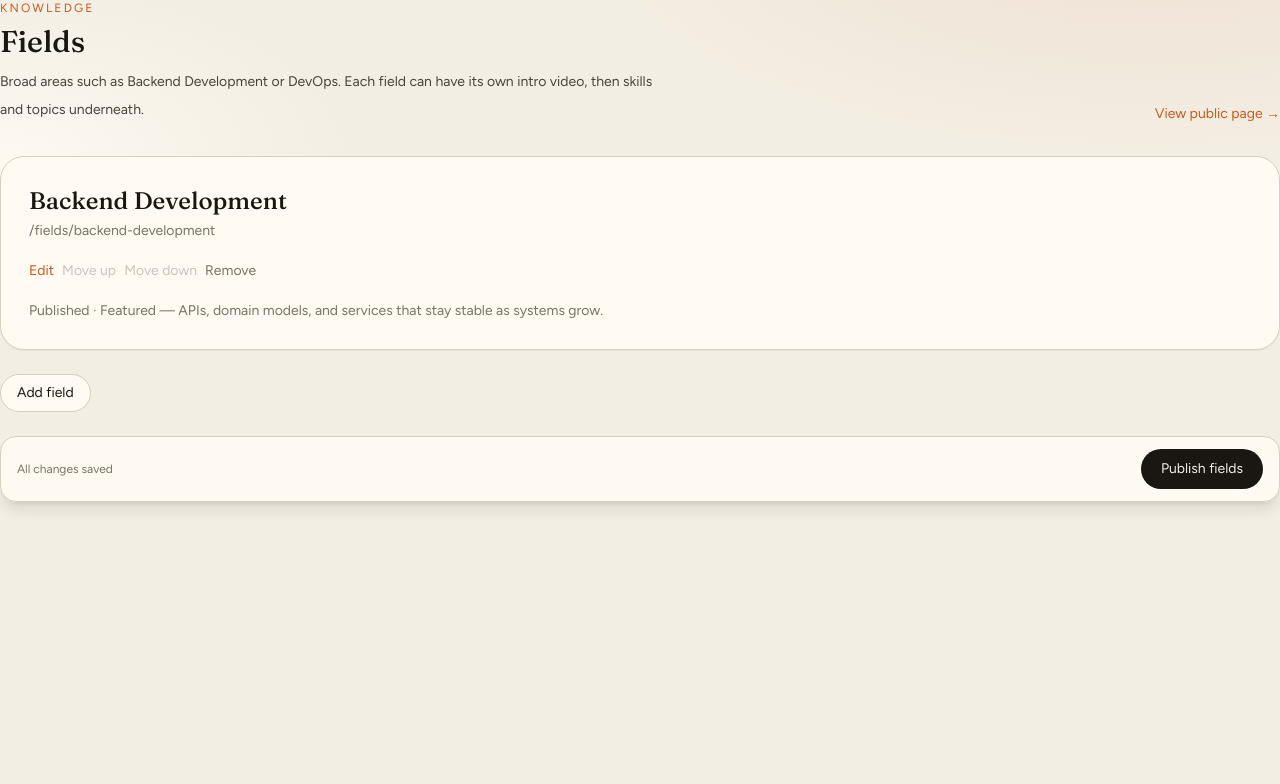
Test: AdminFieldsPage › loads published records and publishes edits
Expected: the heading "Fields" is shown, [0,23,85,60]
Expected: the field labelled "Name" is not shown
Click the button "Edit" at (42, 271), box [29,261,54,281]
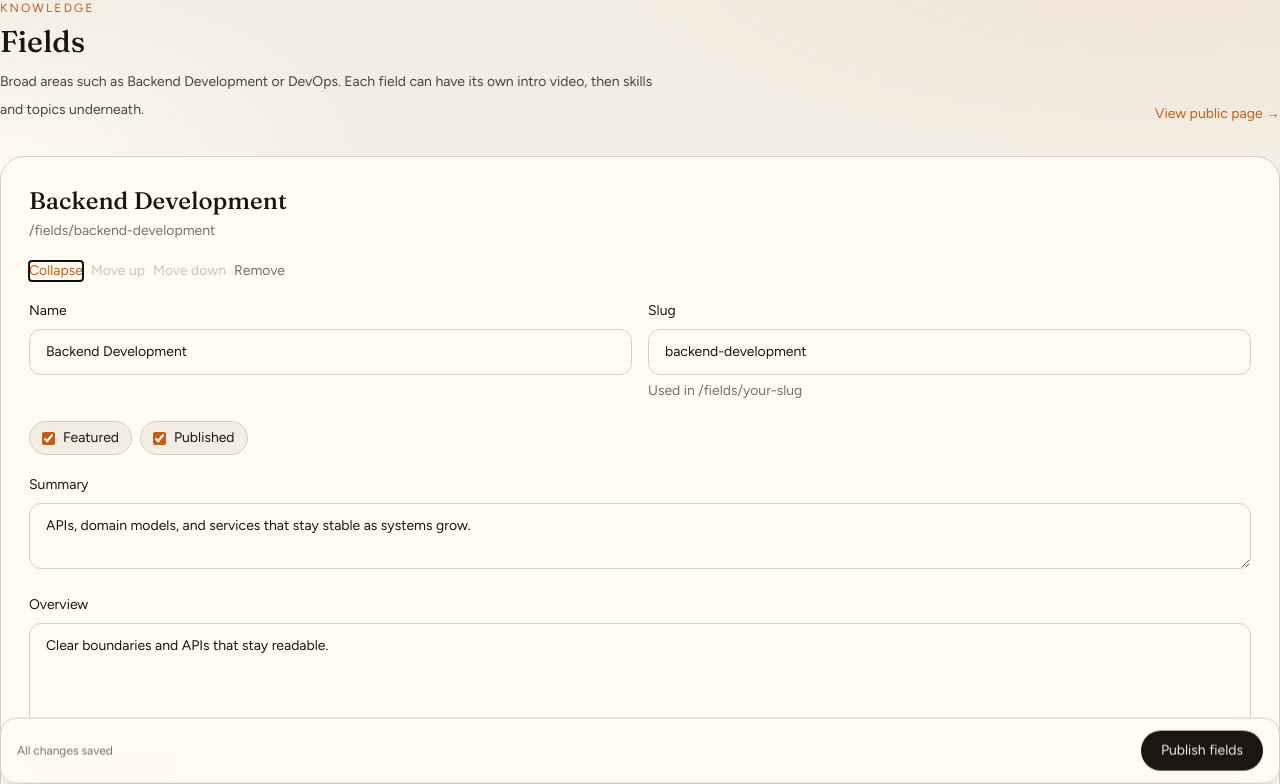
Result: the field labelled "Name" holds "Backend Development"
Result: the field labelled "Slug" holds "backend-development" at [648,329,1251,375]
Replace the text in the field labelled "Name" with "Backend Systems" at (330, 352), box [29,329,632,375]
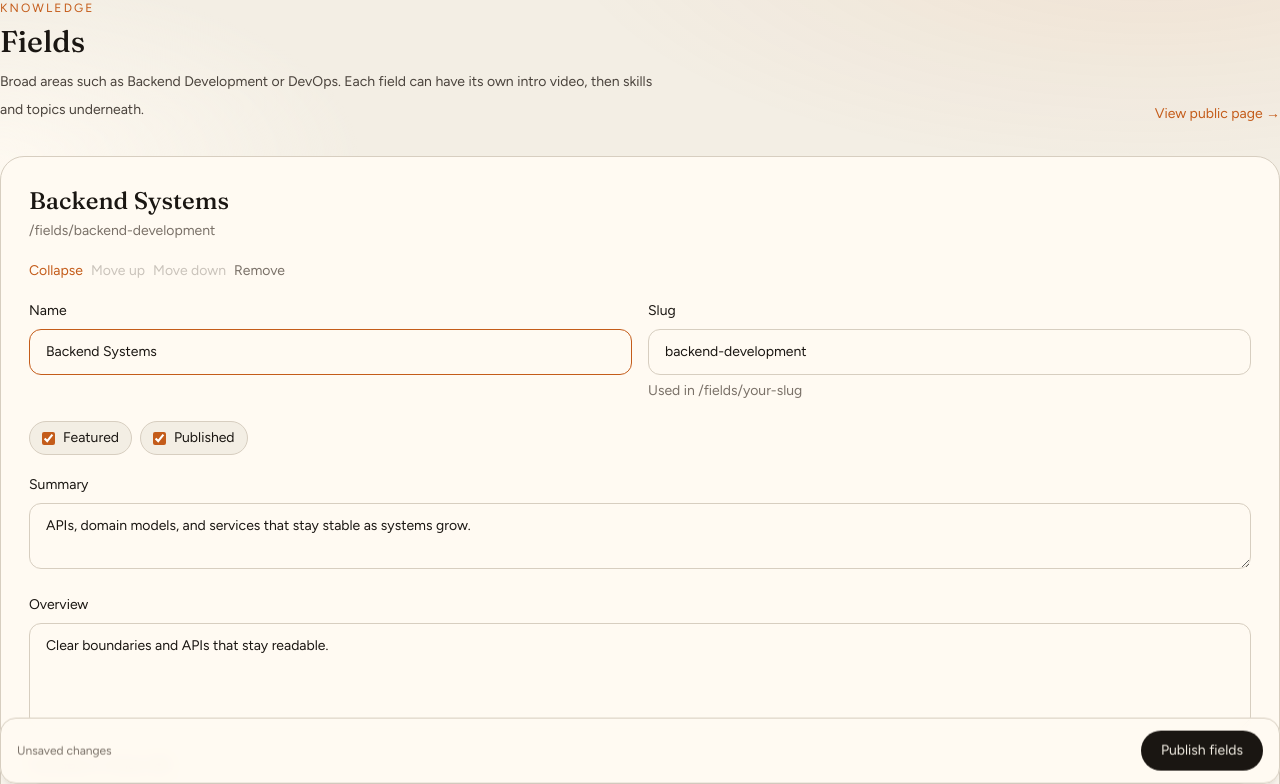
Click the button "Publish fields" at (1202, 751), box [1141,731,1263,771]
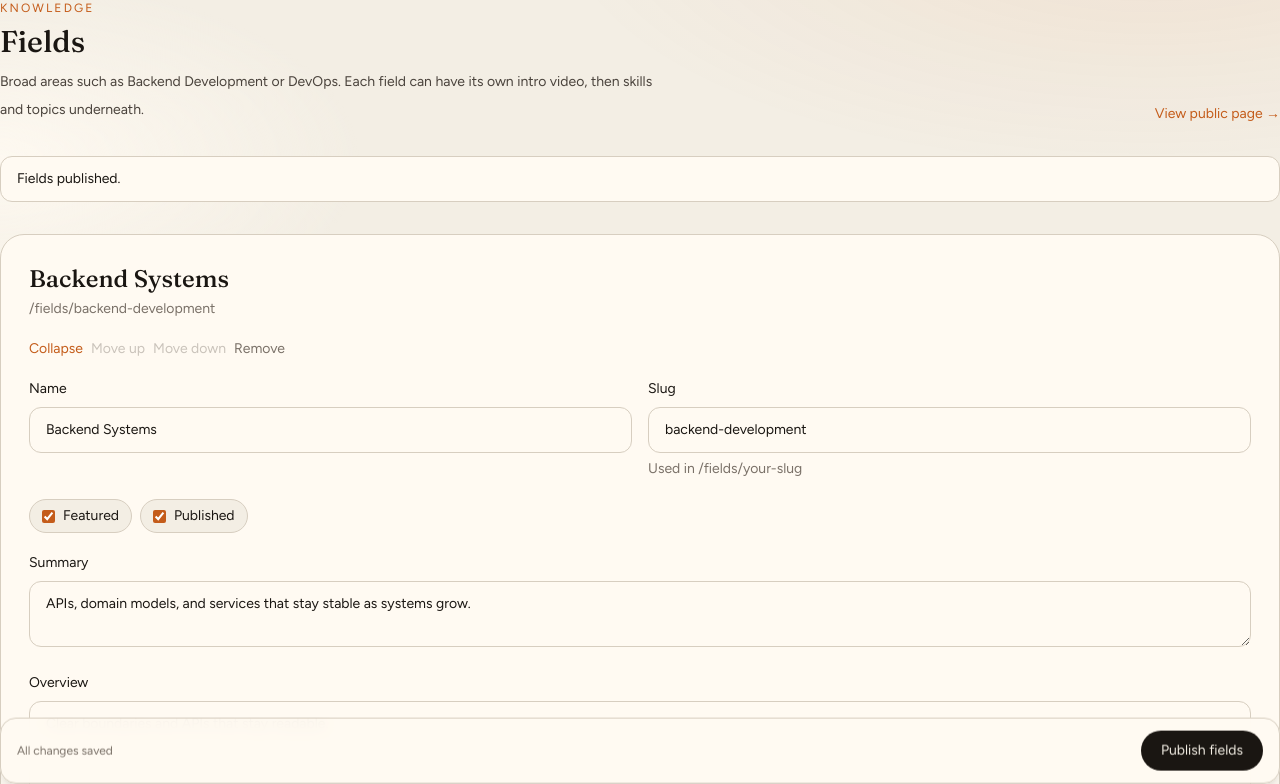
Result: the text "Fields published." is shown at [0,156,1279,202]
